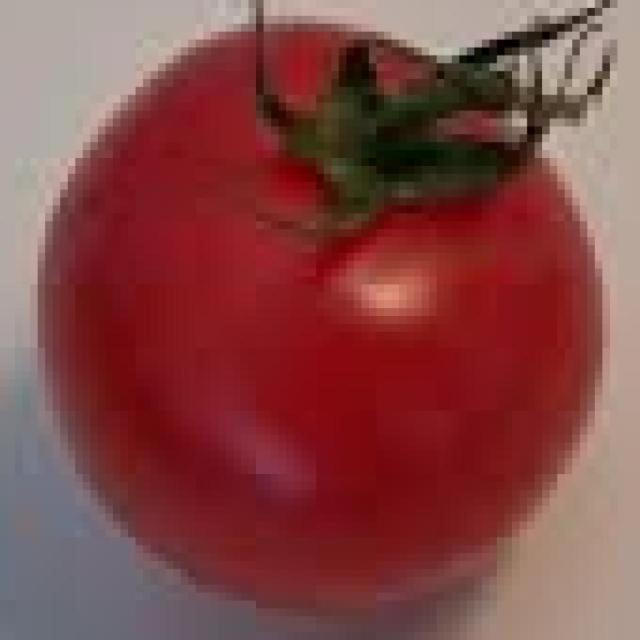Healthy Fruit: (13, 1, 415, 427)
